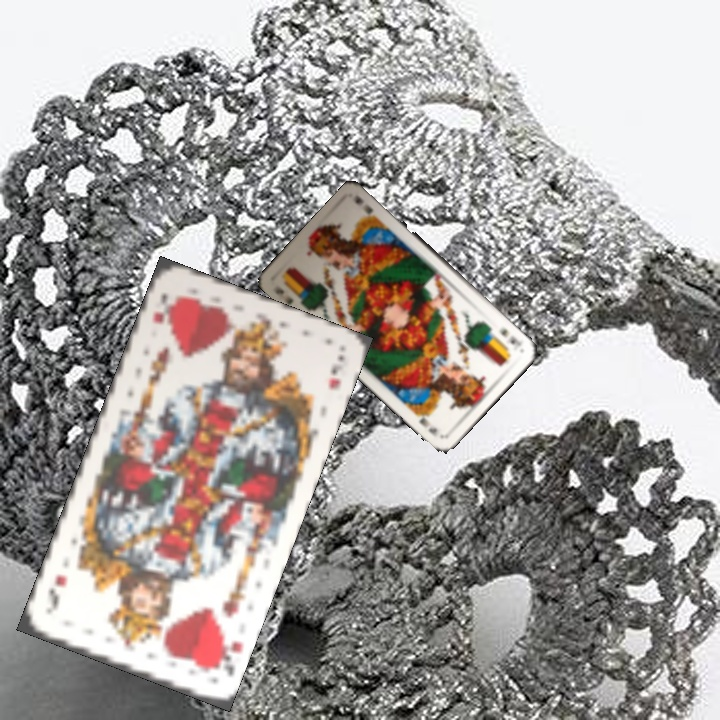EK: (495, 323, 524, 347), (270, 282, 296, 307)
HK: (208, 628, 245, 679), (148, 289, 181, 327)
